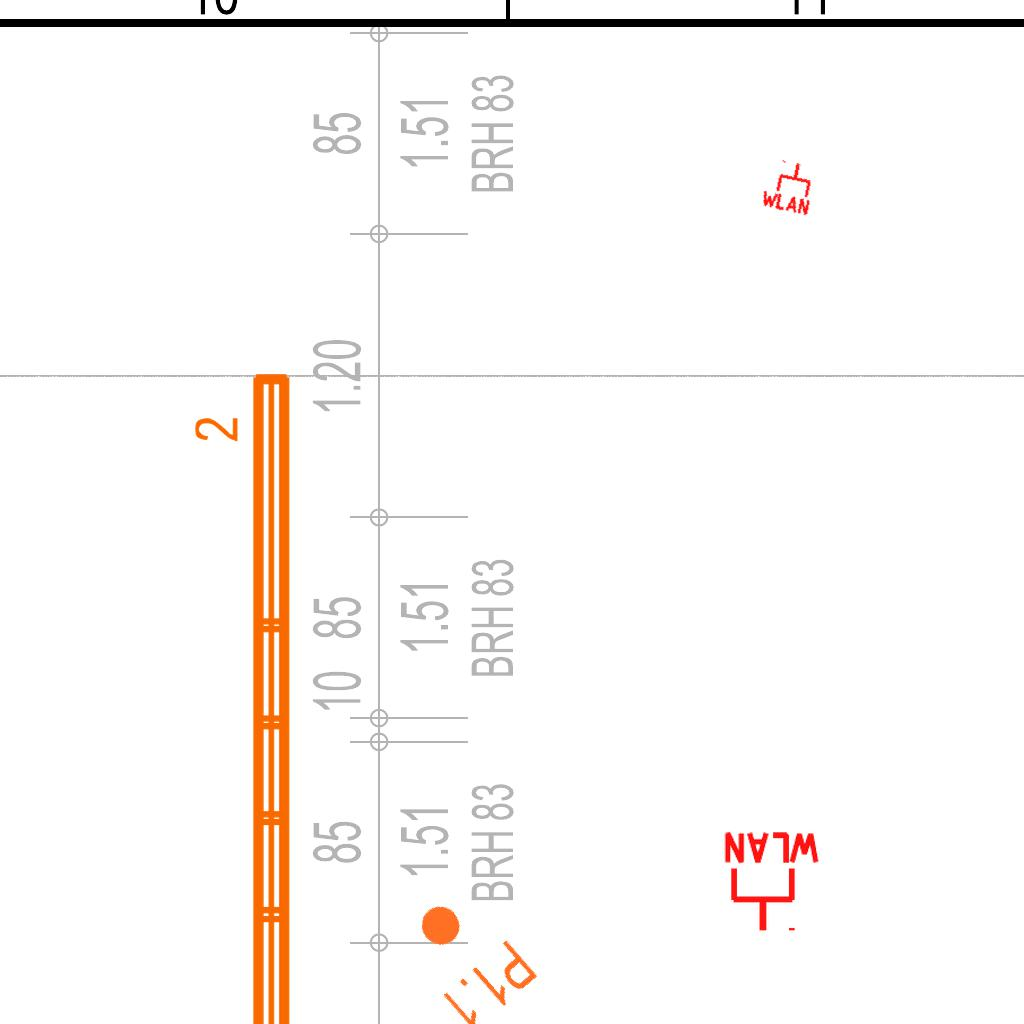Ambulanz_Pendelleuchte_LED: (190, 365, 302, 1024)
Downlight_LED_Einbauleuchten_Flur: (388, 880, 543, 1024)
WLAN: (720, 830, 824, 935), (758, 155, 820, 217)
